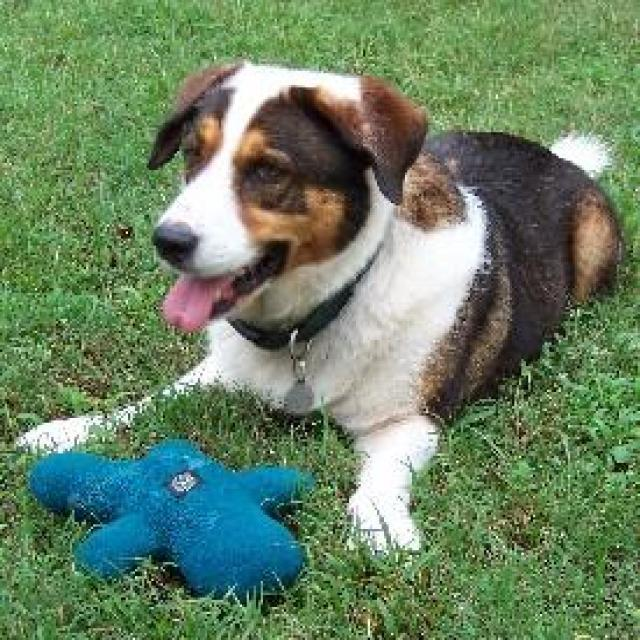adult_dog: (7, 57, 627, 562)
